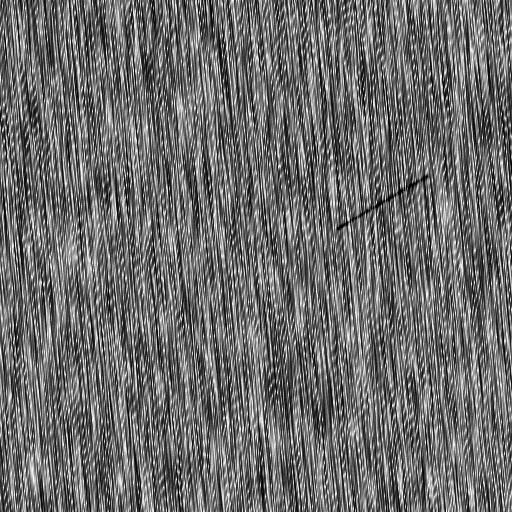DefectTypeC: (339, 174, 431, 228)
